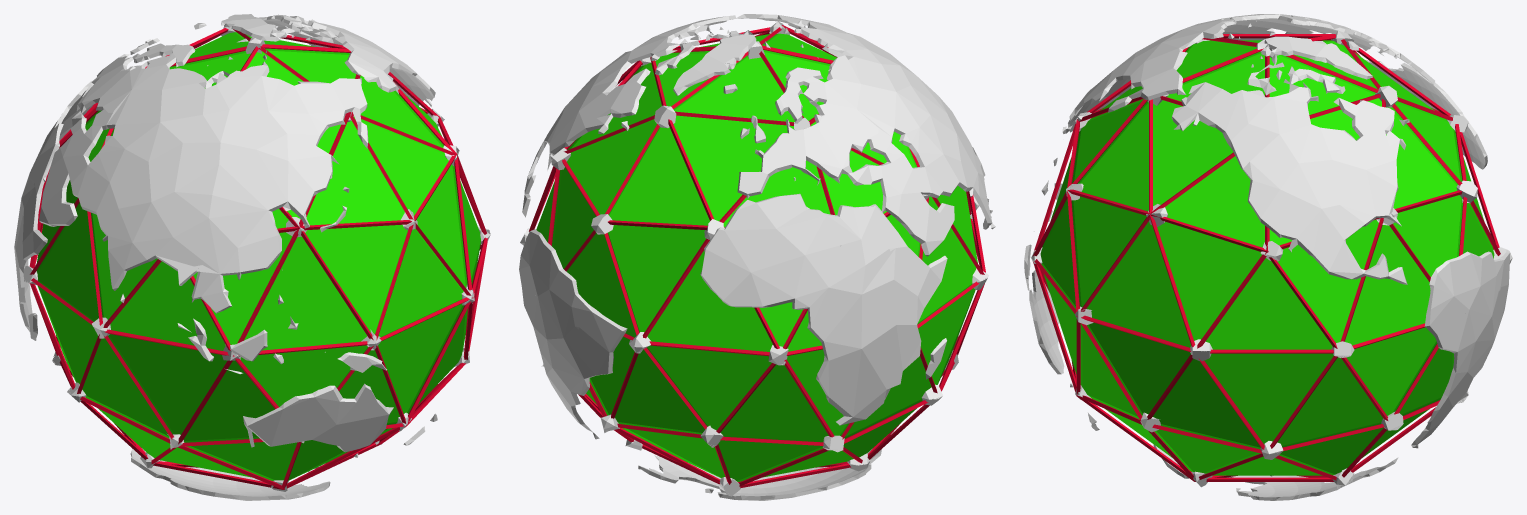
File: globe-optimized-transformed-transformed.glb
3 views of the same model, side by side, from view 1: azimuth 30°, elevation 25°; view 2: azimuth 150°, elevation 25°; view 3: azimuth 270°, elevation 25° (orthographic).
Visible parts, largest first — view 1: world, world.001, world.002; view 2: world, world.001, world.002; view 3: world, world.001, world.002.
Part boxes in pixels (x1=…): world: x1=29, y1=28, x2=487, y2=489; world.001: x1=14, y1=14, x2=437, y2=500; world.002: x1=23, y1=26, x2=490, y2=491; world: x1=529, y1=25, x2=985, y2=488; world.001: x1=519, y1=14, x2=995, y2=500; world.002: x1=520, y1=21, x2=988, y2=496; world: x1=1032, y1=34, x2=1500, y2=481; world.001: x1=1024, y1=14, x2=1510, y2=500; world.002: x1=1031, y1=30, x2=1512, y2=487.
Bounding box in the file's own units: 2.01 × 2.09 × 2.09.
